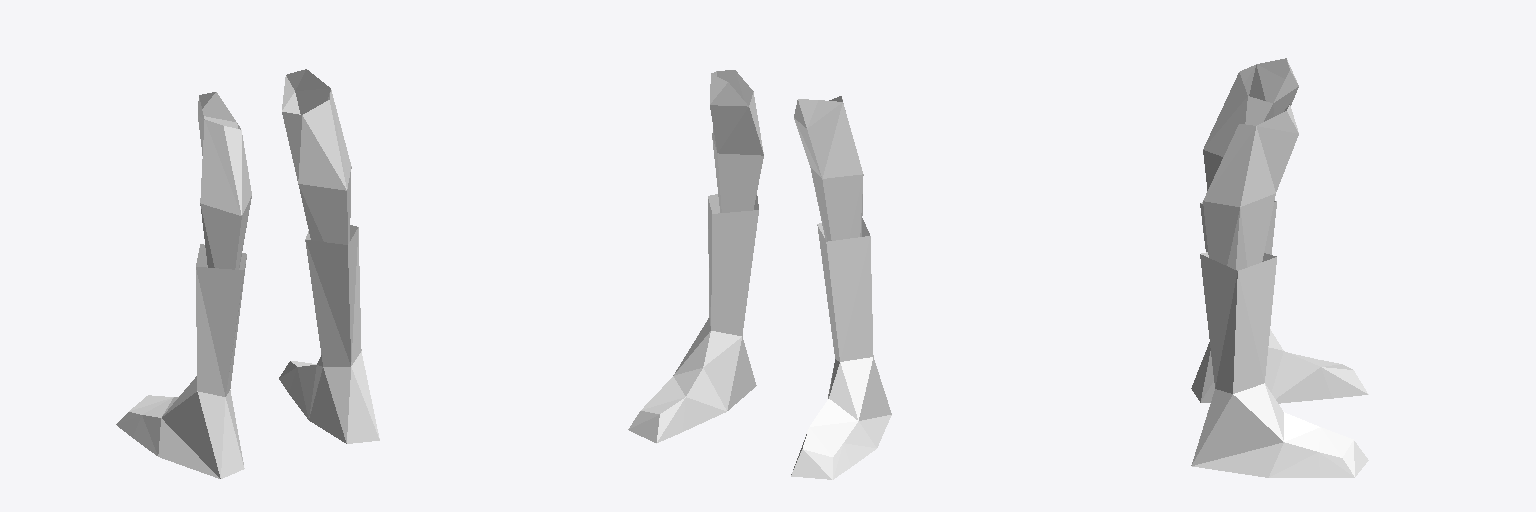
The model's file is 2_mi_boots_17.obj.
3 renders of one model, left to right at view 1: azimuth 30°, elevation 25°; view 2: azimuth 150°, elevation 25°; view 3: azimuth 270°, elevation 25°, orthographic.
Parts seen in each view (by area): view 1: defaultobject; view 2: defaultobject; view 3: defaultobject.
Part boxes in pixels (x1,y1,x2,y2): defaultobject: (116, 69, 379, 478); defaultobject: (628, 70, 891, 479); defaultobject: (1191, 58, 1368, 477).
Size of the model in its own units: 12.57 by 19.91 by 9.35.